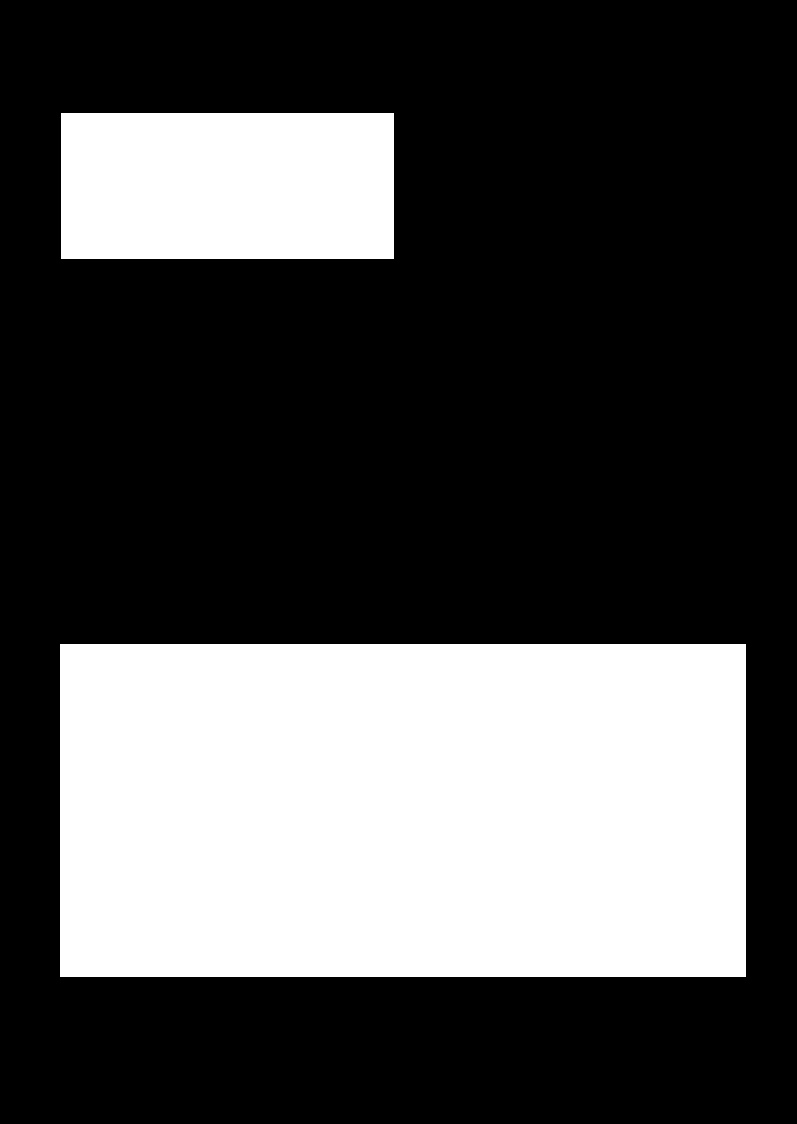table: (60, 644, 745, 976), (61, 113, 393, 258)
